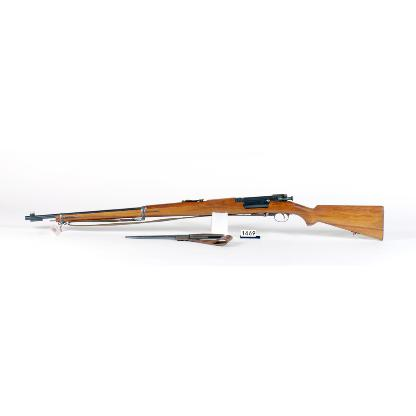gun: (25, 195, 381, 238)
